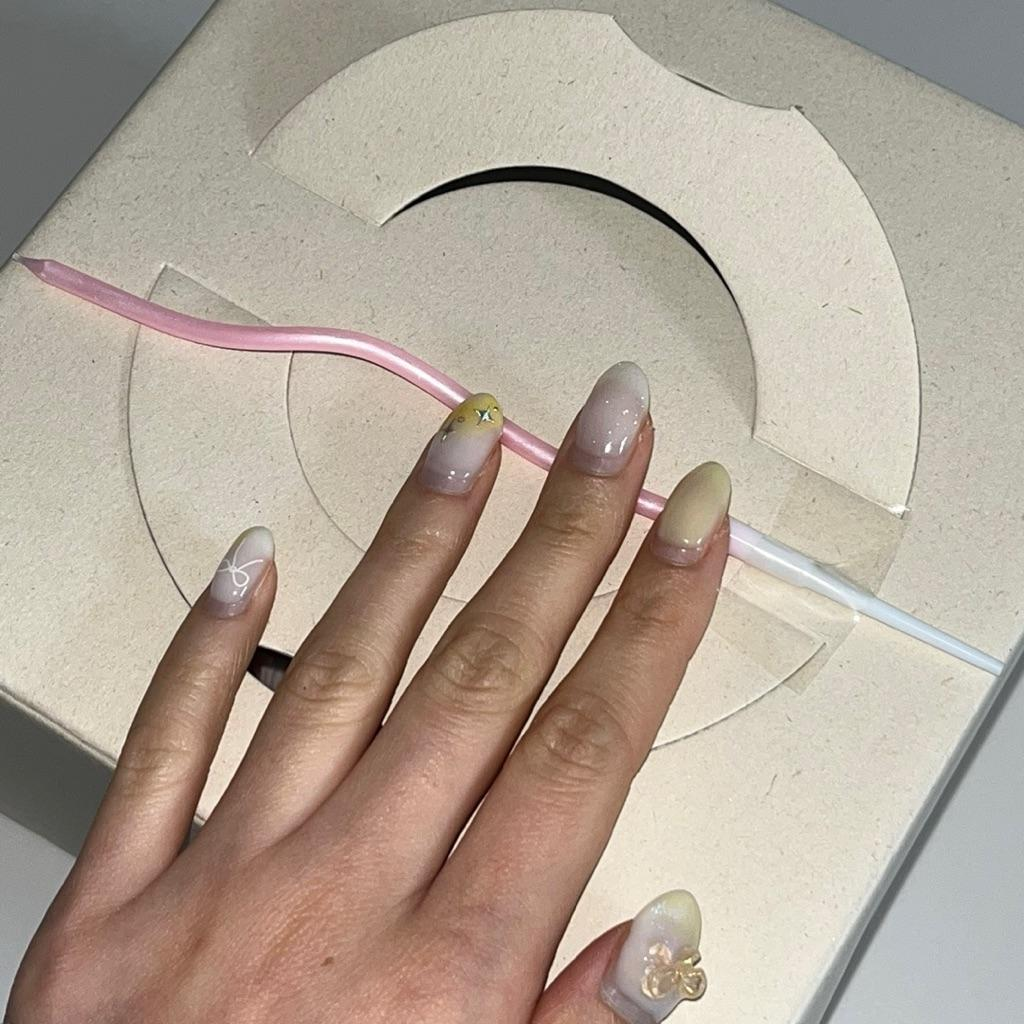nail: (13, 251, 1006, 679), (650, 459, 732, 566)
